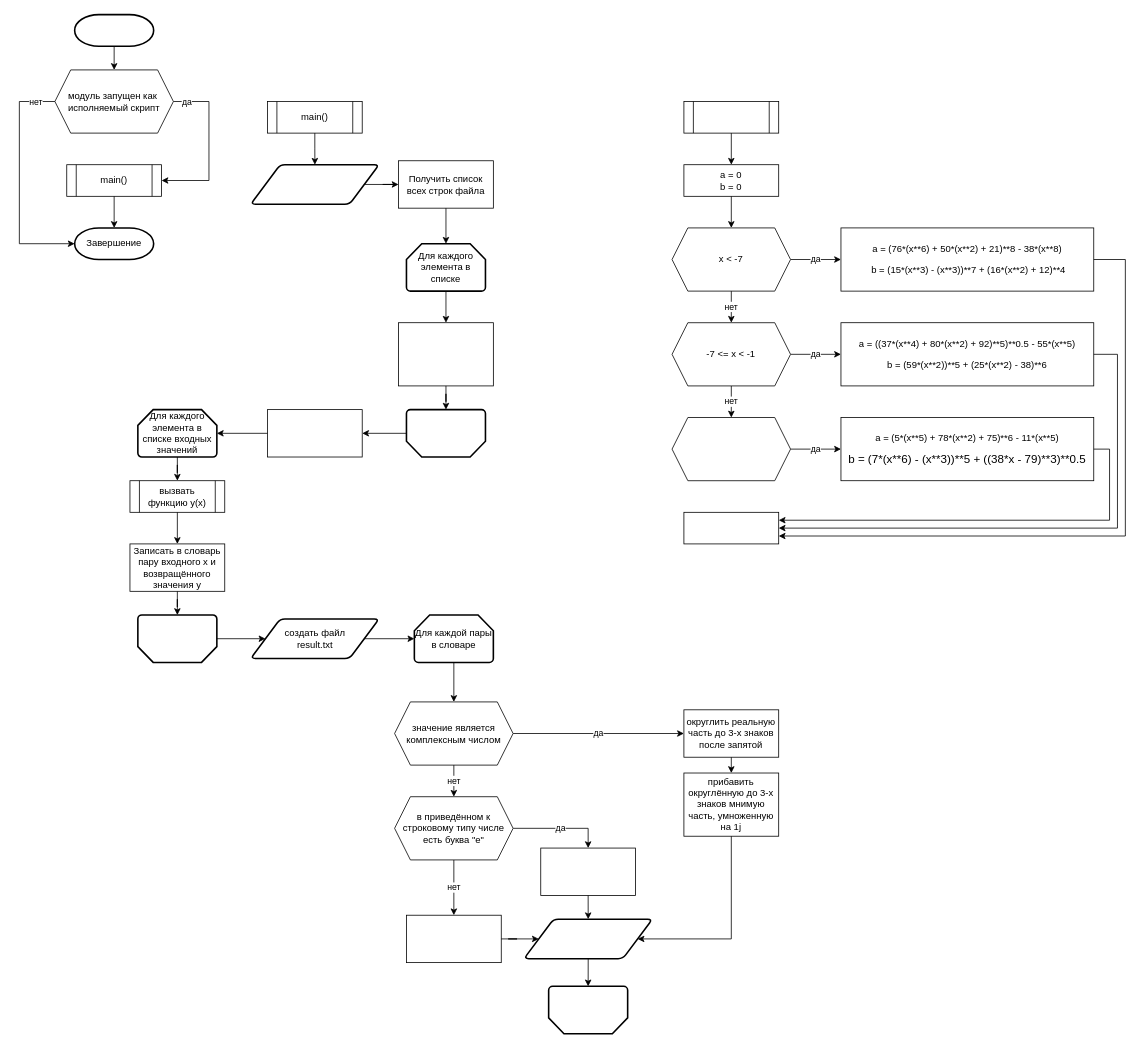
Image size: 1146x1048. Some labels were removed from this diagram. The shapes that lost their labels are listed below. From the top down, each one's centre as x and y in pixels, then its label:
At pixel 113 30: "Запуск".
At pixel 731 117: "y(x)".
At pixel 314 184: "Считать source_data.txt".
At pixel 445 354: "Удалить всё лишнее, оставив лишь входные значения х".
At pixel 314 433: "Создать словарь с парой х:у".
At pixel 731 449: "x >= -1".
At pixel 731 528: "return a / b".
At pixel 588 871: "форматировать экспоненту к виду {:.3e}".
At pixel 453 938: "округлить число до 3-х знаков после запятой".
At pixel 588 938: "записать строку в файл result.txt".
